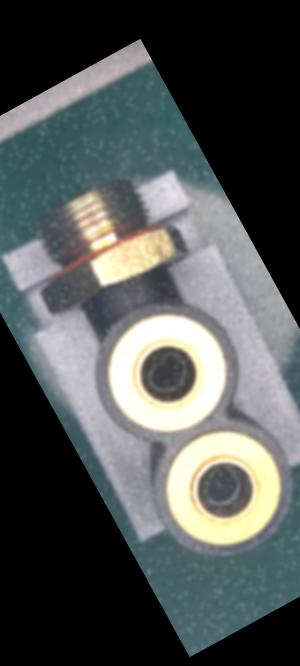craze: (122, 278, 152, 304)
off-centered: (133, 342, 202, 410), (187, 456, 251, 520)
